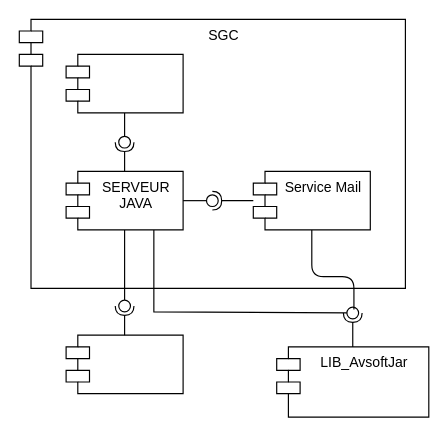
The diagram is 448 pixels wide and 436 high, and some of its shapes have lost their labels. The centre of each missing label's shape, as x and y in pixels:
BASE DE DONNEES: point (124, 364)
IHM WEB: point (124, 83)
